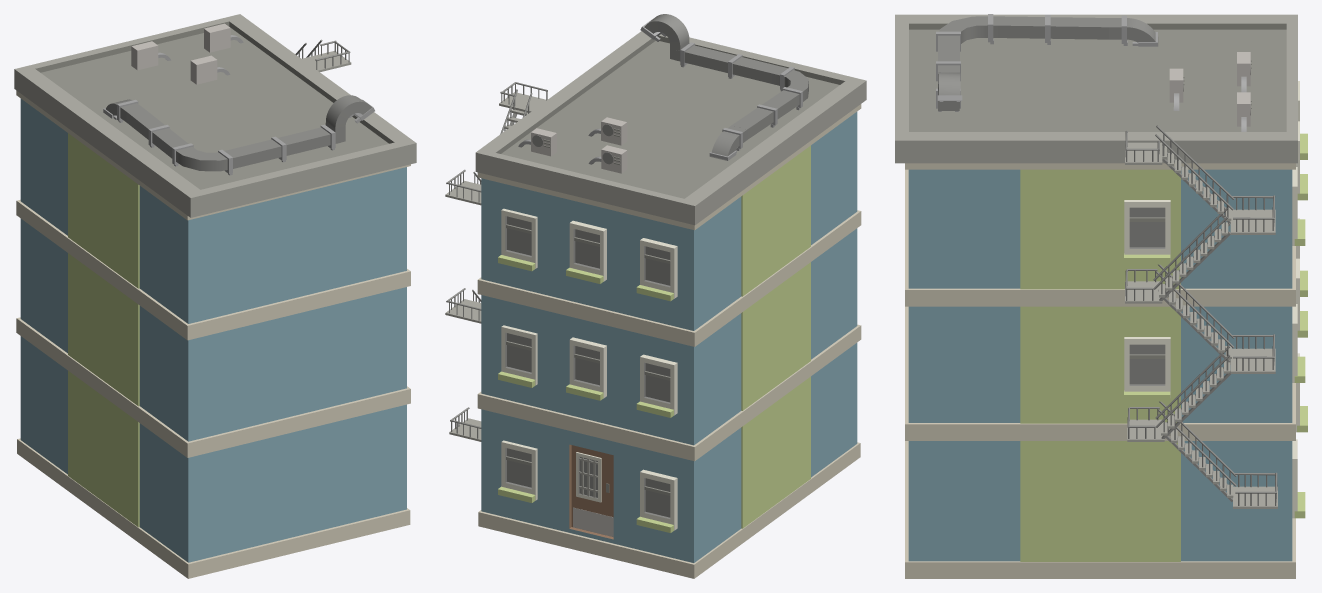
The model's file is house23.fbx.
3 views of the same model, side by side, from view 1: azimuth 30°, elevation 25°; view 2: azimuth 150°, elevation 25°; view 3: azimuth 270°, elevation 25° (orthographic). The views are drawn at different scales.
Visible parts, largest first — view 1: o_1; view 2: o_1; view 3: o_1.
Part boxes in pixels (left/top/right/bottom): o_1: left=14, top=14, right=416, bottom=578; o_1: left=445, top=14, right=866, bottom=578; o_1: left=895, top=14, right=1307, bottom=578.
Bounding box in the file's own units: 1004 × 1516 × 1178.
